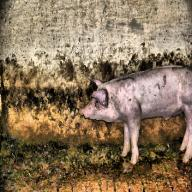boar: (82, 63, 192, 162)
